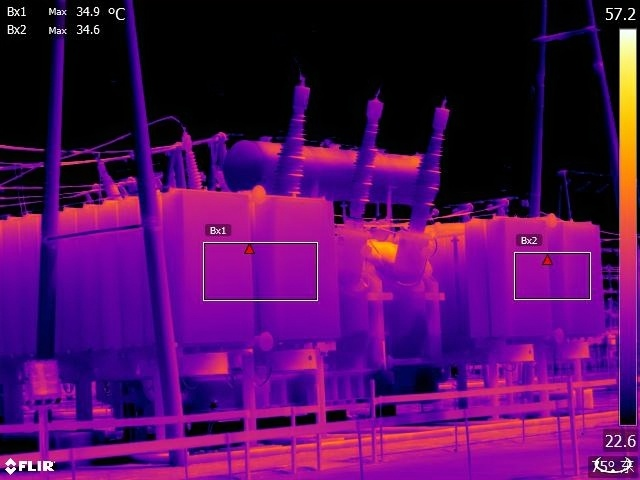oil conservator: (223, 133, 446, 205)
transformer: (1, 189, 333, 378), (427, 210, 604, 349)
tube: (405, 93, 456, 232), (343, 87, 387, 222), (277, 71, 314, 197), (176, 126, 203, 187), (92, 157, 122, 198)
